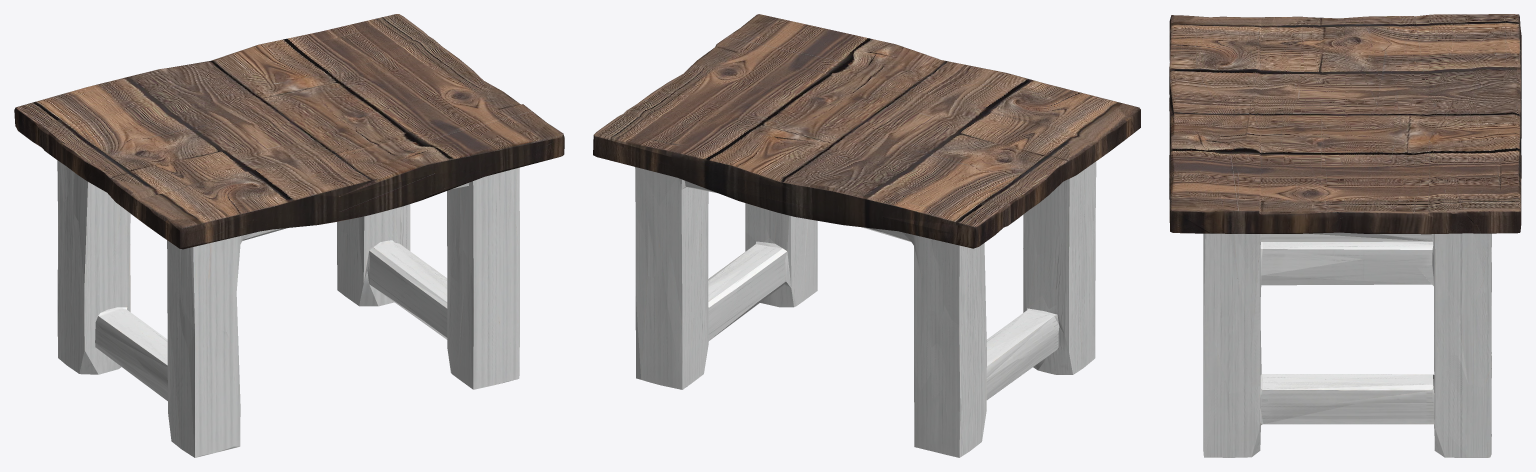
Rendered from table.glb.
3 views of the same model, side by side, from view 1: azimuth 30°, elevation 25°; view 2: azimuth 150°, elevation 25°; view 3: azimuth 270°, elevation 25° (orthographic). The views are drawn at different scales.
Bounding box in the file's own units: 1.9 × 1.19 × 1.42.
Materials: 1 (1 with a texture image).
